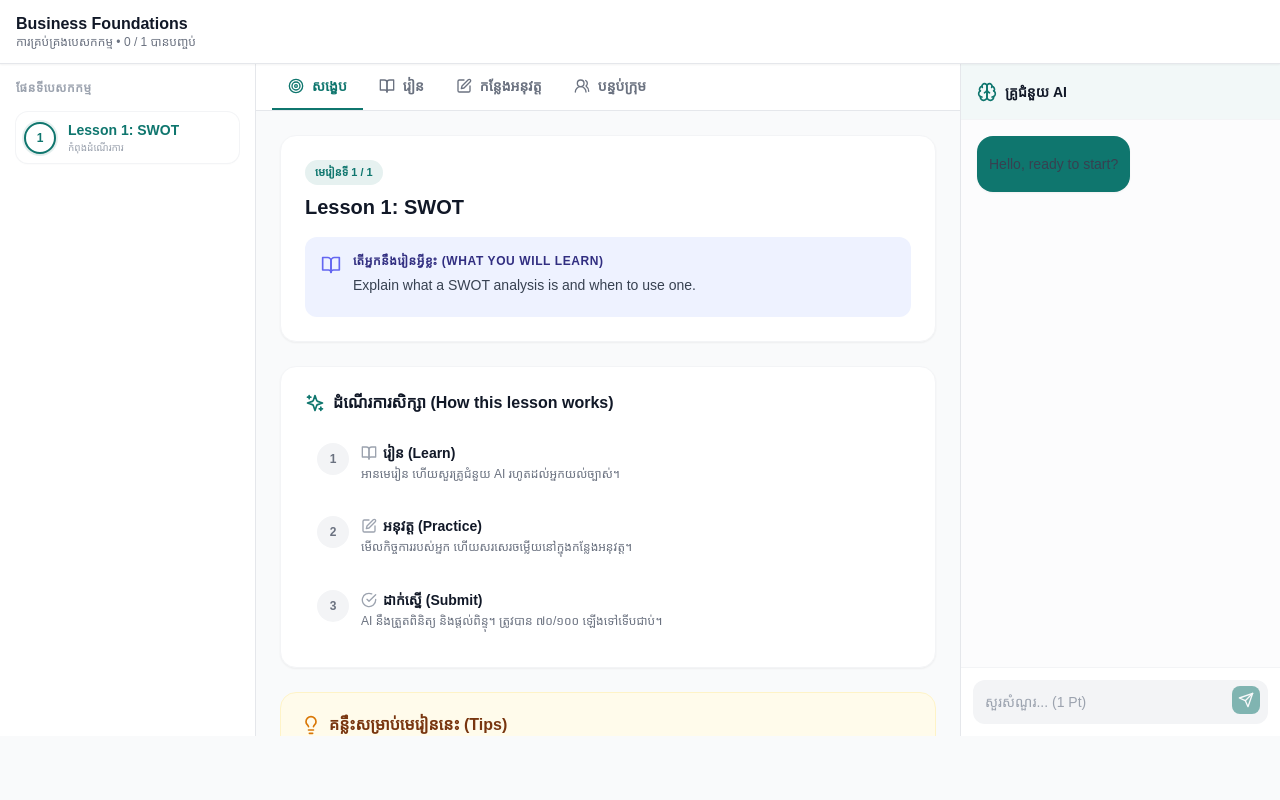
MissionWorkspace tab layout › shows the task on the practice tab, above the workspace
Step 1. Click the button "កន្លែងអនុវត្ត" → coordinates (499, 87), box left=440, top=64, right=558, bottom=110
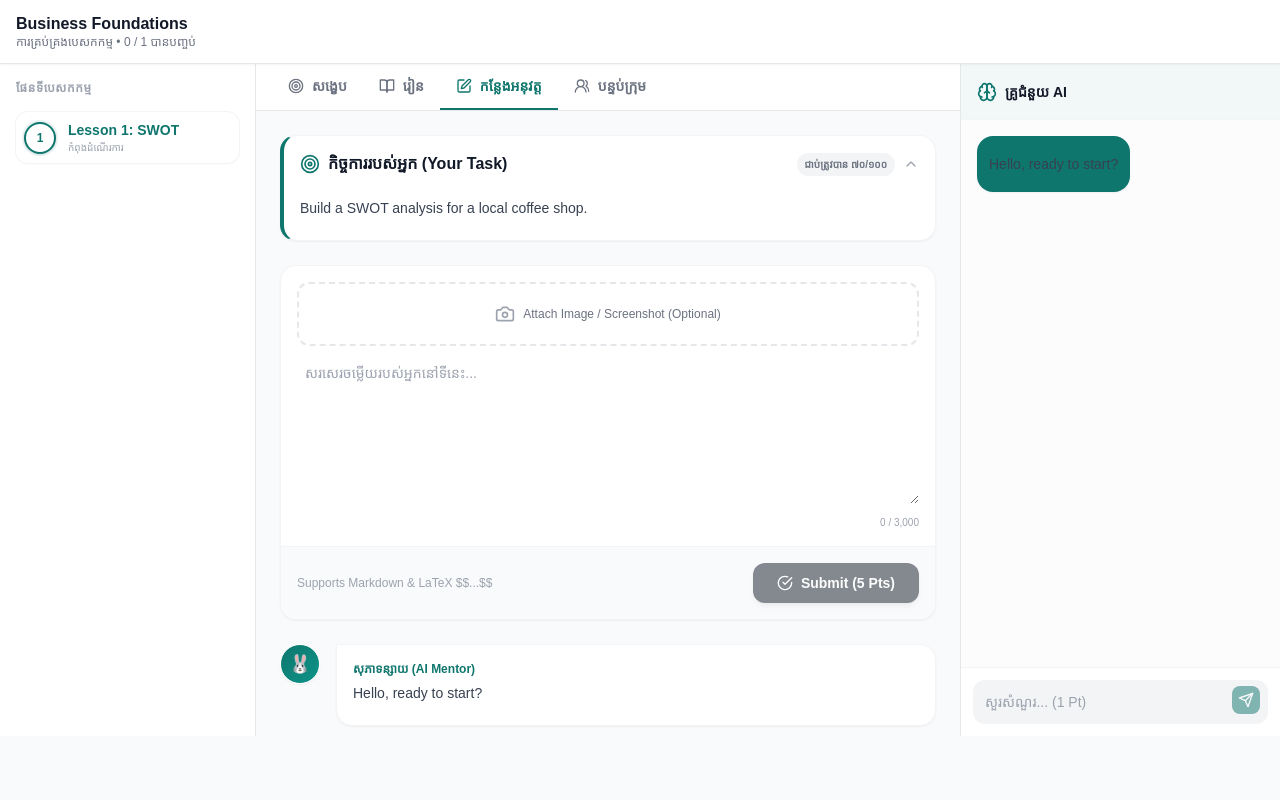
Expected: the text "Build a SWOT analysis for a local coffee shop." is shown, left=300, top=200, right=587, bottom=216
Expected: the text "កិច្ចការរបស់អ្នក (Your Task)" is shown, left=328, top=152, right=508, bottom=176
Expected: the text box named "Submission Text" is shown, left=297, top=354, right=919, bottom=504
